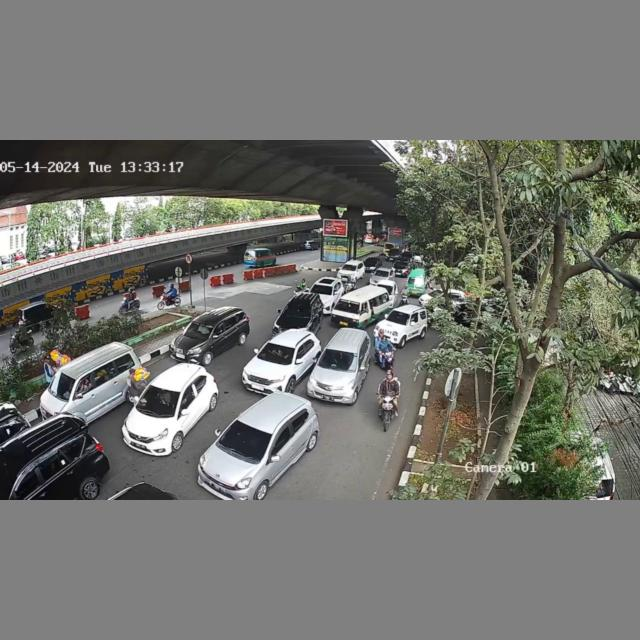windshield: (220, 420, 271, 459), (137, 384, 181, 416), (318, 348, 361, 372), (47, 370, 78, 403), (256, 343, 296, 367), (184, 320, 214, 340), (283, 301, 312, 319), (387, 311, 411, 327)
